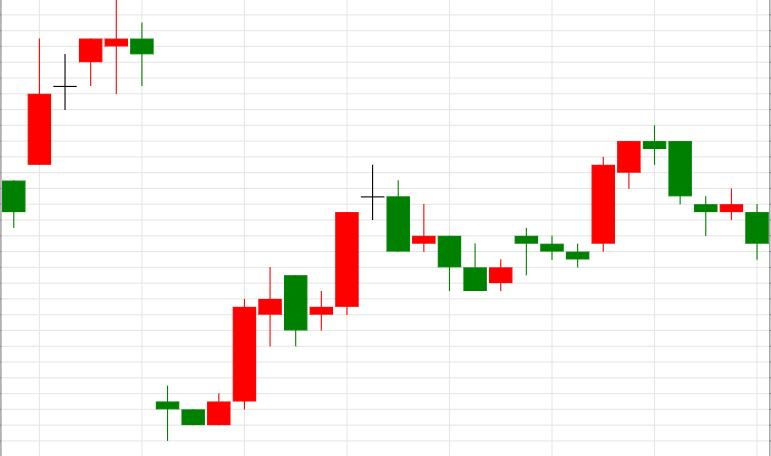evening_star_fall: (182, 166, 410, 425)
